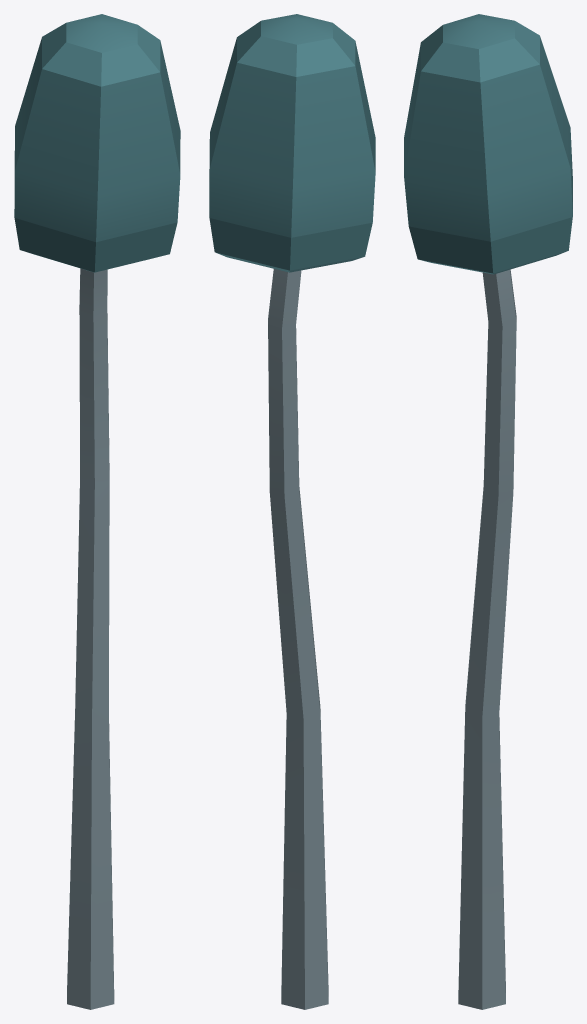
File: mushroom_01.fbx
3 views of the same model, side by side, from view 1: azimuth 30°, elevation 25°; view 2: azimuth 150°, elevation 25°; view 3: azimuth 270°, elevation 25° (orthographic).
Parts seen in each view (by area): view 1: mushroom_v01_p01; view 2: mushroom_v01_p01; view 3: mushroom_v01_p01.
Boxes of the visible parts, x1,y1,x2,y2 form: mushroom_v01_p01: (14, 14, 180, 1009); mushroom_v01_p01: (209, 14, 375, 1009); mushroom_v01_p01: (404, 14, 572, 1009).
Bounding box in the file's own units: 1.01 × 5.7 × 0.8881.
